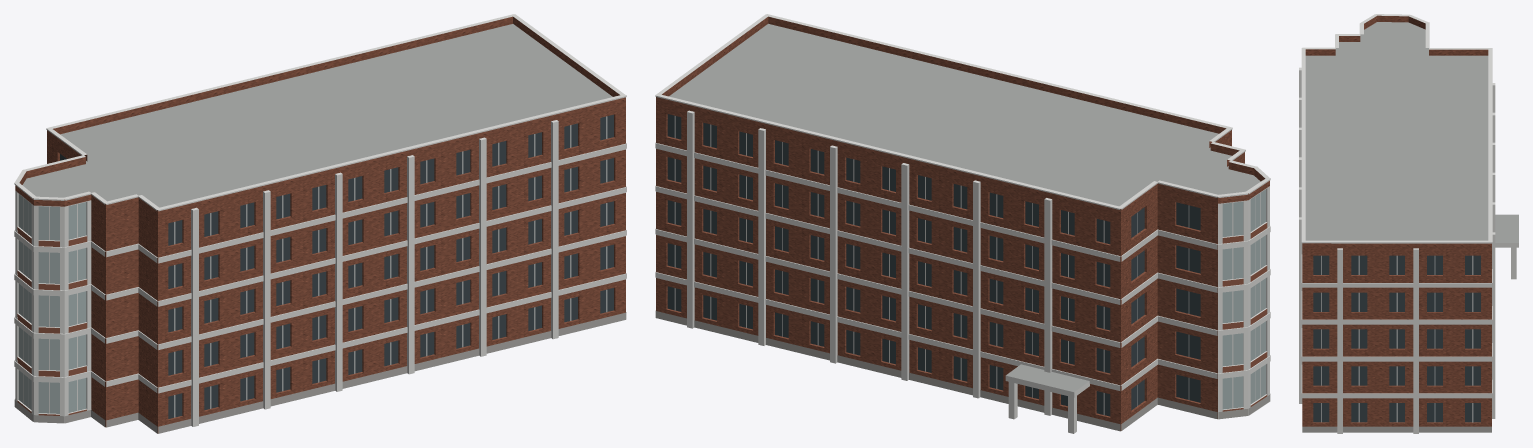
3 renders of one model, left to right at view 1: azimuth 30°, elevation 25°; view 2: azimuth 150°, elevation 25°; view 3: azimuth 270°, elevation 25°, orthographic. The views are drawn at different scales.
Parts seen in each view (by area): view 1: computing__wall, computing__roof, computing__trim, computing__glass, computing__parapet, computing__glassBlock, computing__tower, computing__base, computing__frame, computing__spandrel; view 2: computing__wall, computing__roof, computing__trim, computing__glass, computing__parapet, computing__glassBlock, computing__tower, computing__base, computing__frame, computing__spandrel, computing__column; view 3: computing__roof, computing__wall, computing__trim, computing__glass, computing__parapet, computing__base, computing__frame.
Part boxes in pixels (x1,y1,x2,y2): computing__wall: [47, 103, 625, 433]; computing__roof: [22, 24, 612, 410]; computing__trim: [14, 14, 626, 426]; computing__glass: [60, 114, 613, 418]; computing__parapet: [15, 16, 625, 216]; computing__glassBlock: [18, 194, 86, 413]; computing__tower: [14, 190, 91, 422]; computing__base: [14, 312, 626, 433]; computing__frame: [23, 116, 607, 417]; computing__spandrel: [17, 227, 86, 415]; computing__wall: [656, 102, 1244, 430]; computing__roof: [669, 23, 1260, 391]; computing__trim: [655, 14, 1270, 415]; computing__glass: [667, 114, 1200, 416]; computing__parapet: [656, 16, 1269, 215]; computing__glassBlock: [1222, 189, 1265, 409]; computing__tower: [1218, 186, 1270, 418]; computing__base: [655, 310, 1270, 431]; computing__frame: [674, 116, 1260, 415]; computing__spandrel: [1222, 223, 1267, 411]; computing__column: [1008, 382, 1076, 433]; computing__roof: [1305, 22, 1518, 242]; computing__wall: [1302, 248, 1491, 426]; computing__trim: [1299, 14, 1518, 433]; computing__glass: [1313, 255, 1480, 422]; computing__parapet: [1302, 15, 1491, 248]; computing__base: [1302, 426, 1491, 432]; computing__frame: [1321, 255, 1473, 422].
Bounding box in the file's own units: 48.12 × 18.6 × 19.48.
Materials: 12 (2 with a texture image).
